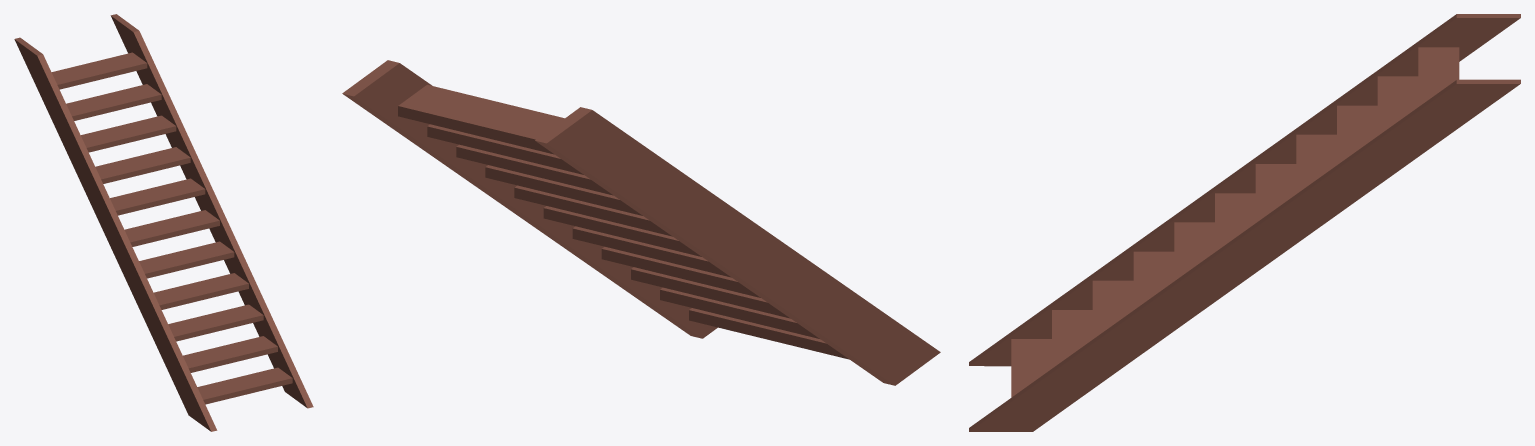
The model's file is Stairs_018.glb.
3 renders of one model, left to right at view 1: azimuth 30°, elevation 25°; view 2: azimuth 150°, elevation 25°; view 3: azimuth 270°, elevation 25°, orthographic. The views are drawn at different scales.
Visible parts, largest first — view 1: Stairs_018; view 2: Stairs_018; view 3: Stairs_018.
Boxes of the visible parts, x1,y1,x2,y2 form: Stairs_018: (14,14,313,431); Stairs_018: (342,60,940,385); Stairs_018: (969,14,1520,431).
Size of the model in its own units: 1.72 by 4 by 5.74.
1 material, 1 textured.
